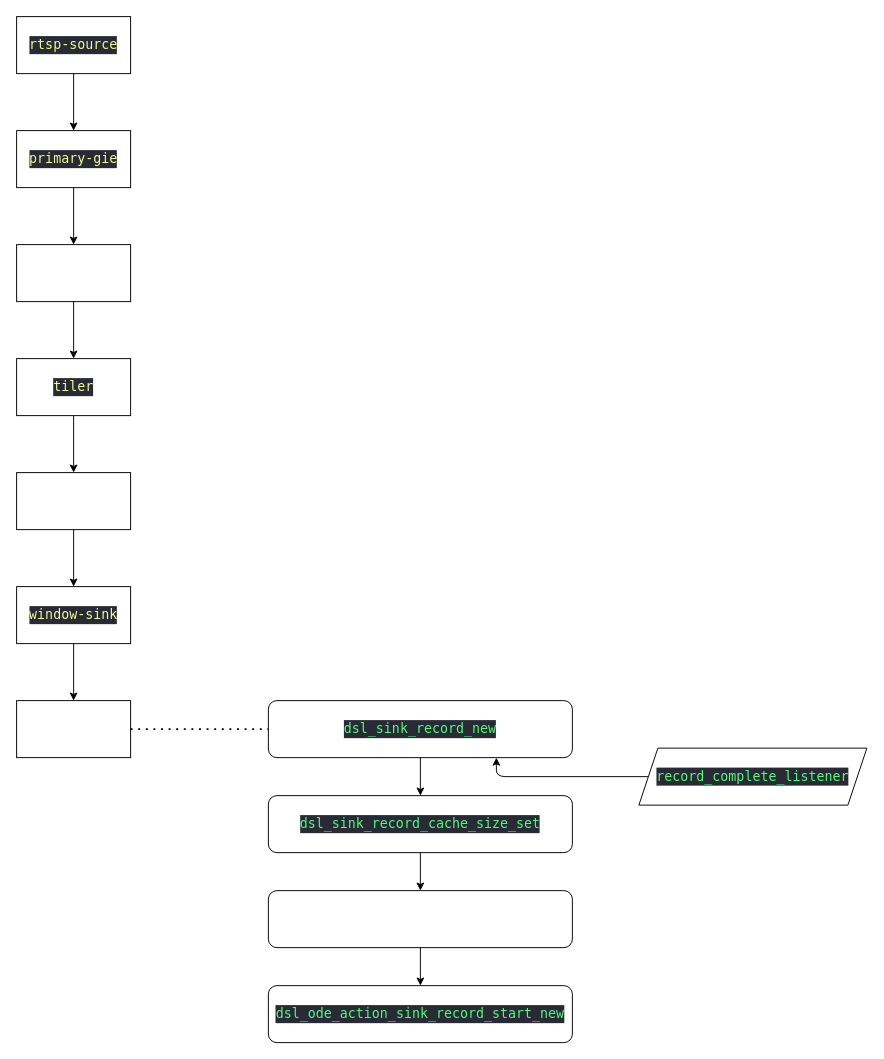
Some shapes in this 884 by 1059 pixel diagram are drawn without their labels. Here are the shapes that lost their labels. From the top down, the centre of each, then its label:
the point at 73,273: iou-tracker
the point at 73,501: on-screen-display
the point at 73,729: record-sink
the point at 419,919: dsl_sink_encode_dimensions_set
